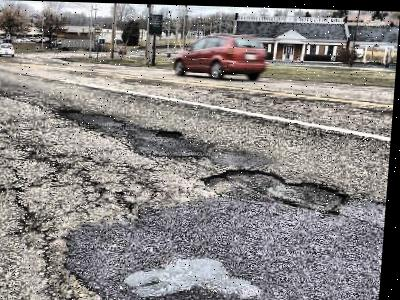pothole: (200, 166, 357, 215), (156, 127, 185, 138), (58, 106, 83, 114)
